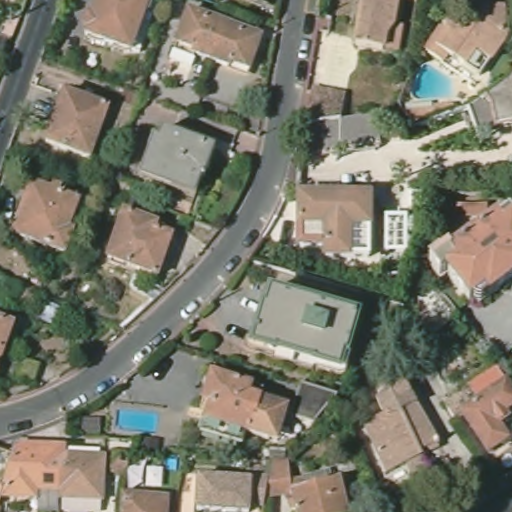pool: (112, 403, 162, 437), (414, 64, 457, 103), (161, 455, 181, 473)
